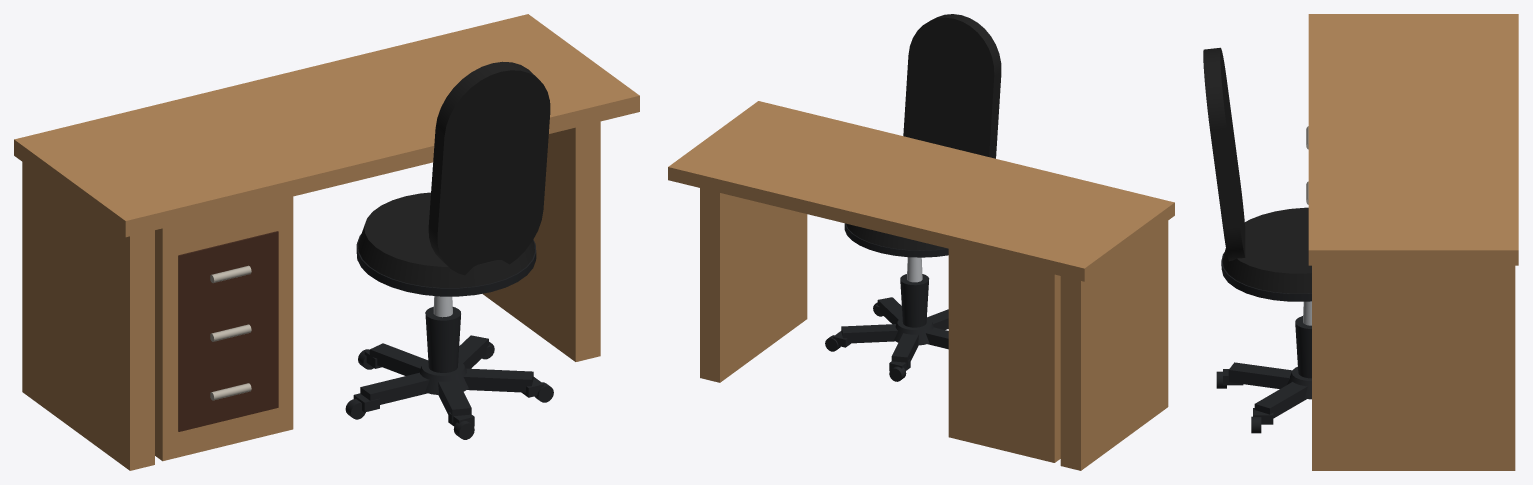
Rendered from desk_drawer_chair.glb.
3 views of the same model, side by side, from view 1: azimuth 30°, elevation 25°; view 2: azimuth 150°, elevation 25°; view 3: azimuth 270°, elevation 25° (orthographic). The views are drawn at different scales.
Size of the model in its own units: 1.65 by 1.13 by 0.9313.
